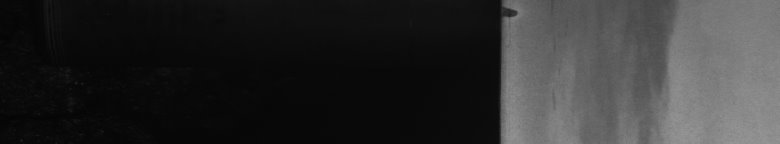hb: (512, 5, 521, 22)
